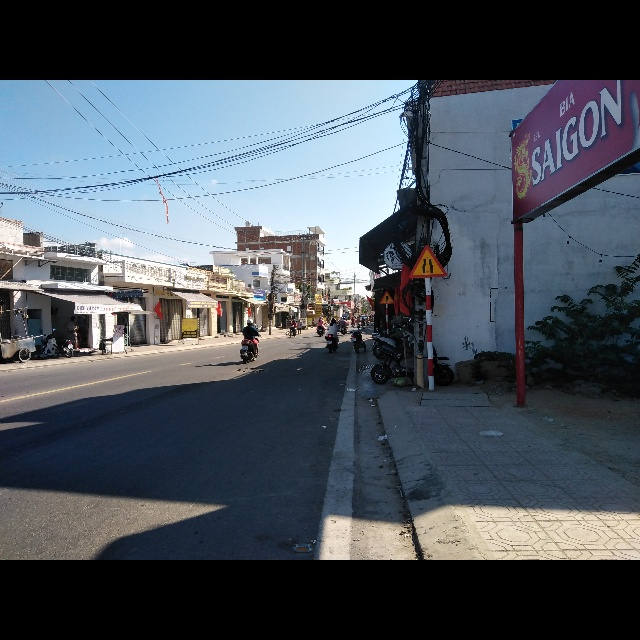Đường bị hẹp cả hai bên: (408, 244, 449, 279)
